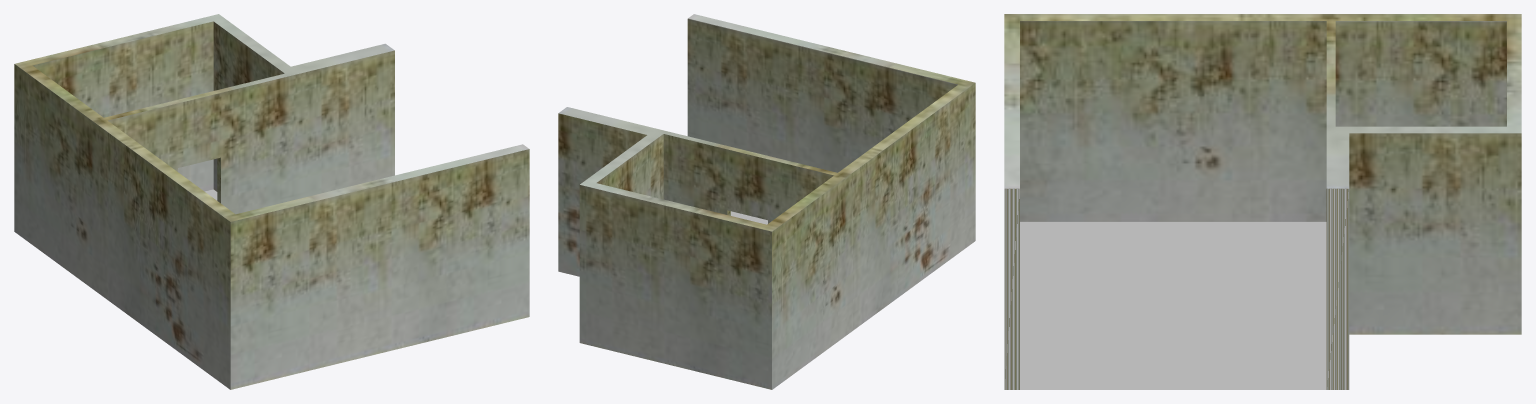
The model's file is veteran_room.FBX.
3 views of the same model, side by side, from view 1: azimuth 30°, elevation 25°; view 2: azimuth 150°, elevation 25°; view 3: azimuth 270°, elevation 25° (orthographic). The views are drawn at different scales.
Visible parts, largest first — view 1: vet_room_walls; view 2: vet_room_walls; view 3: vet_room_walls, vet_room_floor.
Part boxes in pixels (box(x1,y1,x2,y2)): vet_room_walls: box(14, 14, 529, 389); vet_room_walls: box(558, 14, 975, 389); vet_room_walls: box(1004, 14, 1521, 389); vet_room_floor: box(1020, 222, 1326, 389).
Bounding box in the file's own units: 521 × 280 × 651.
